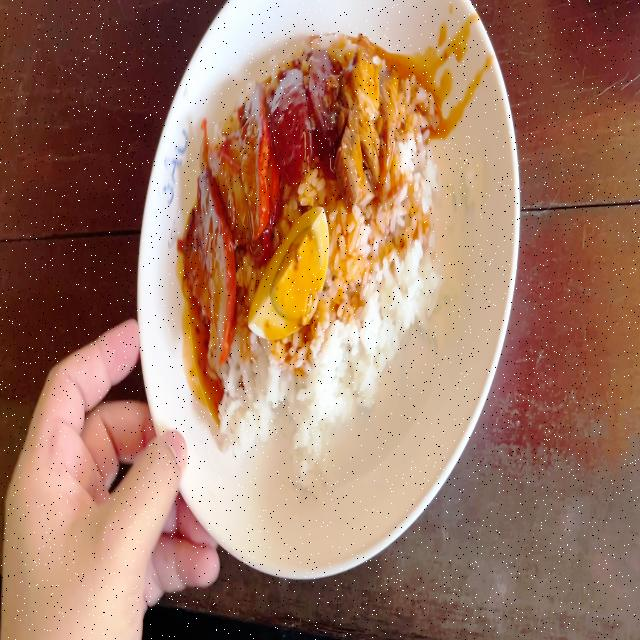boiled_egg: (256, 210, 325, 342)
chainese_sausage: (276, 60, 339, 176)
crispy_pork: (345, 42, 397, 216)
red_pork: (190, 93, 268, 374)
red_pork_and_crispy_pork: (187, 51, 445, 443)
rice: (331, 212, 437, 373), (225, 347, 355, 459), (401, 76, 437, 222)
